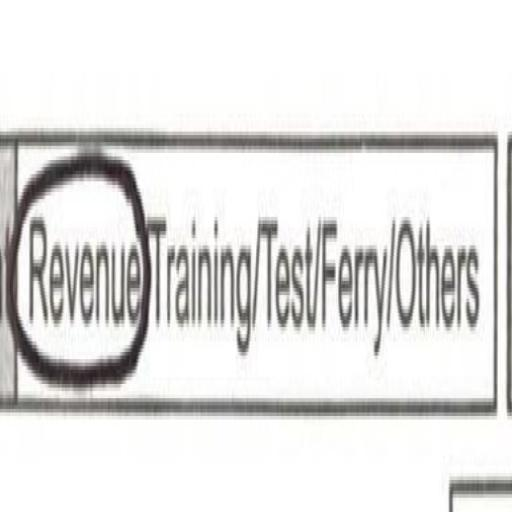check: (6, 83, 151, 512)
